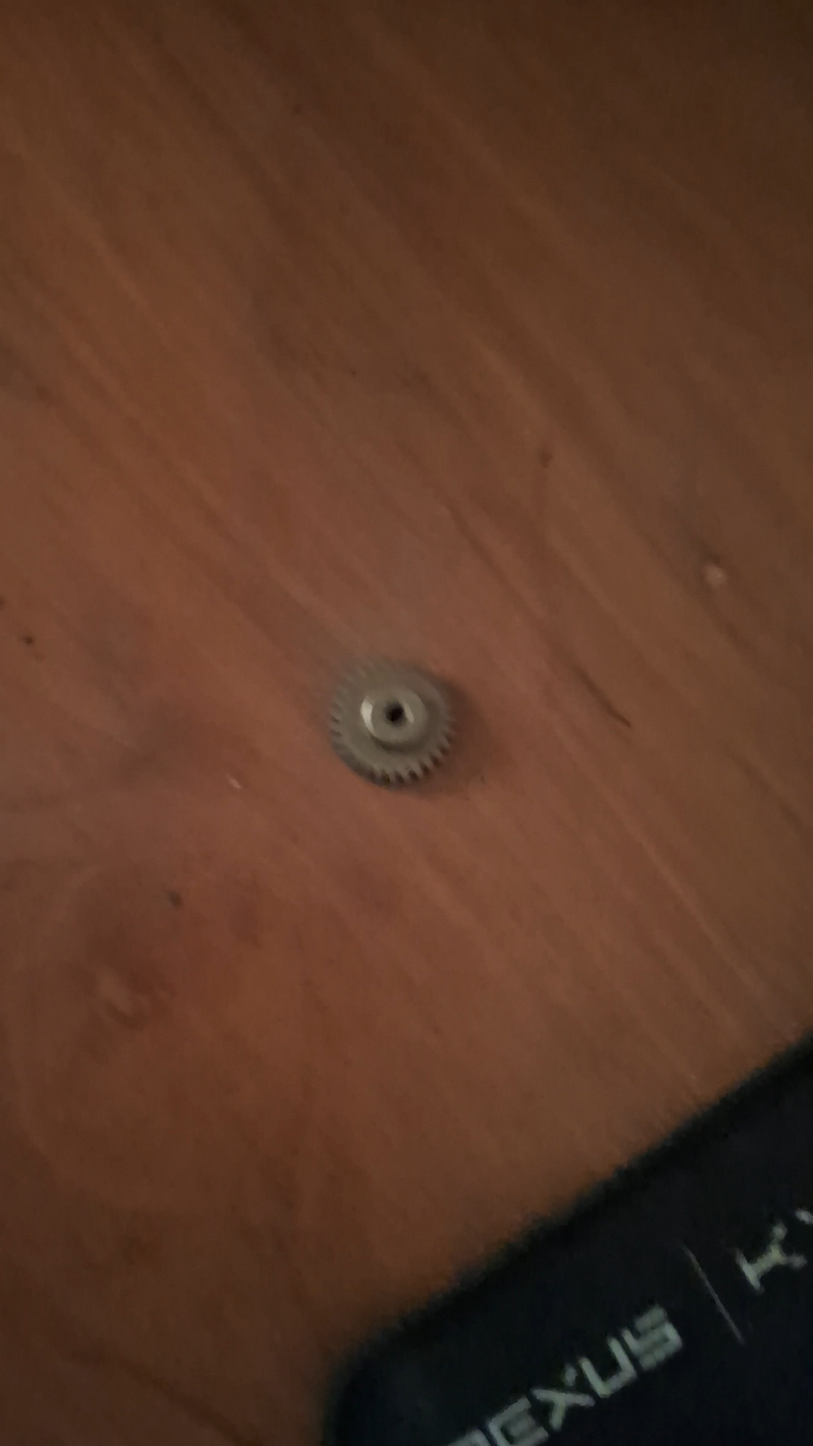spur gear: (330, 661, 452, 786)
